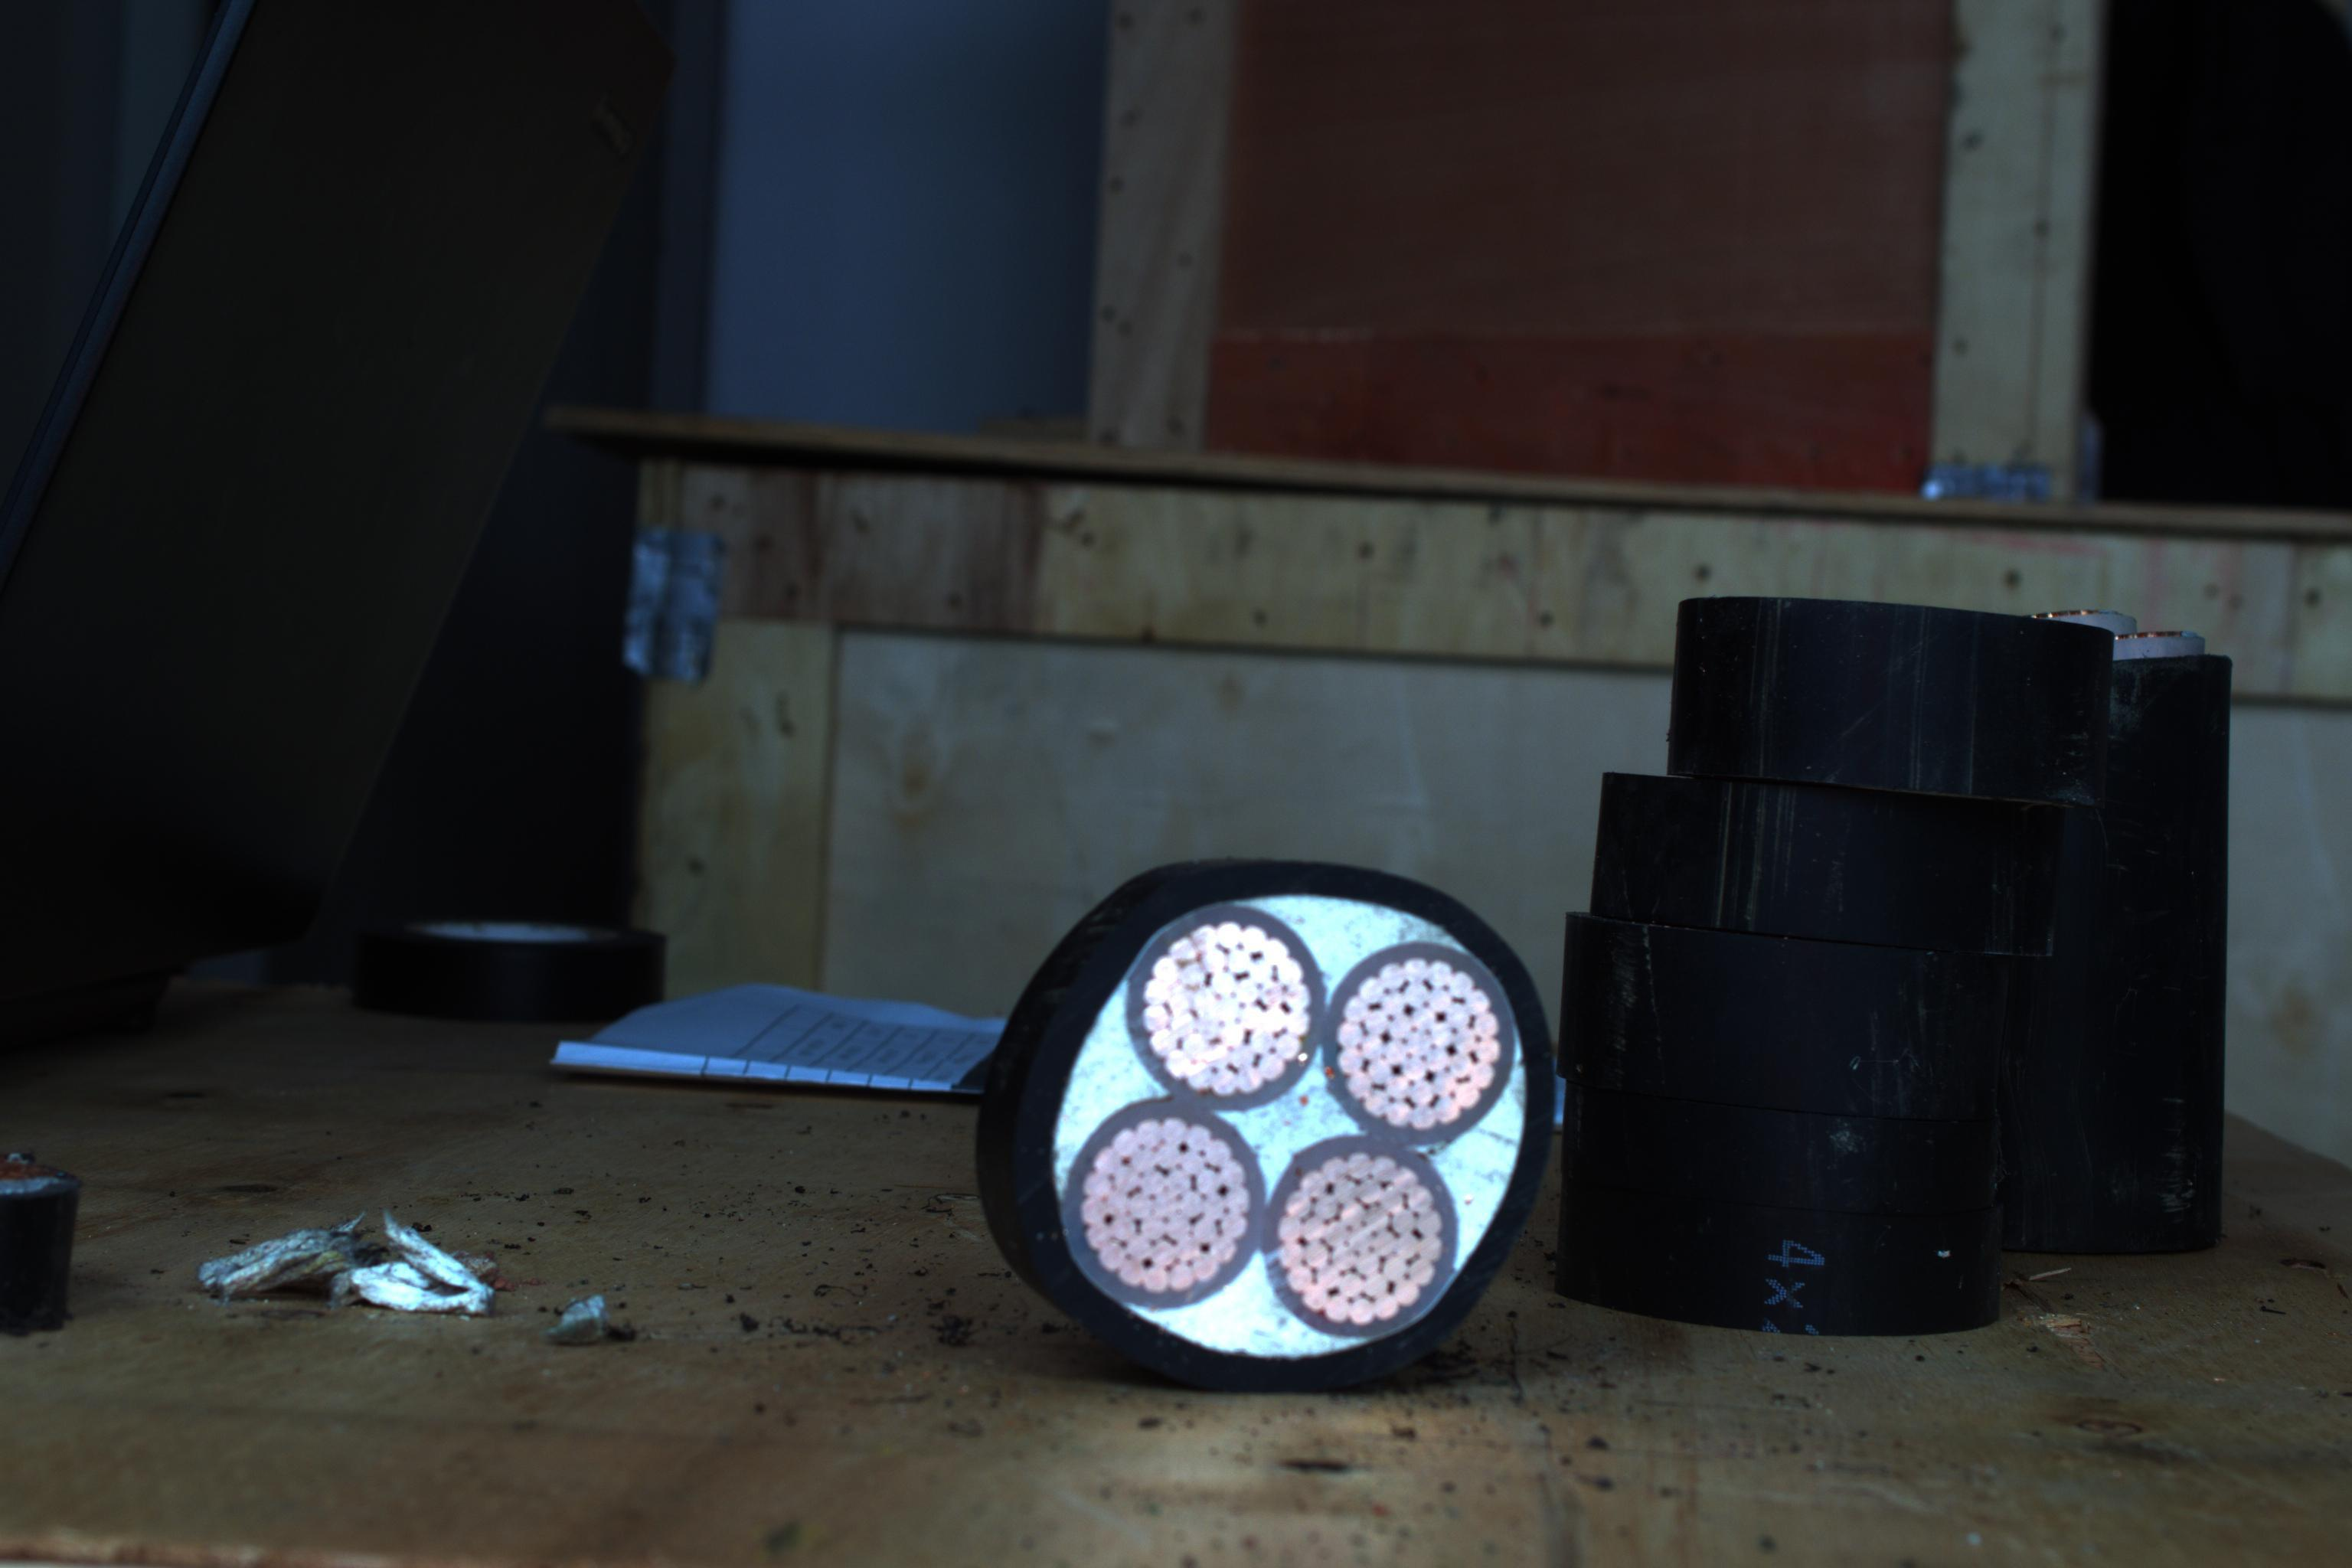YJV_0.6_1kV_4x240: (1031, 861, 1547, 1363)
